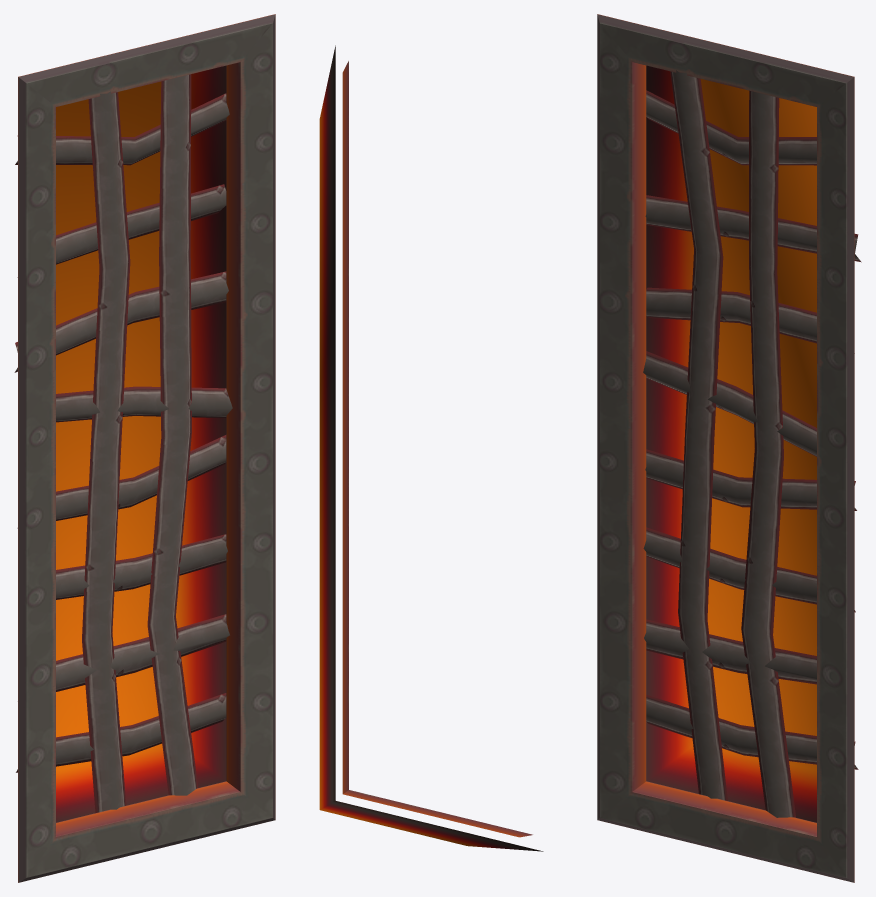
The model's file is tile_2x6.glb.
3 views of the same model, side by side, from view 1: azimuth 30°, elevation 25°; view 2: azimuth 150°, elevation 25°; view 3: azimuth 330°, elevation 25° (orthographic).
Parts seen in each view (by area): view 1: flame_grates.tile_2x6-MeshNodes["flame_pit_2x6"], flame_grates.tile_2x6-MeshNodes["flame_pit_2x6_bars"], flame_grates.tile_2x6-MeshNodes["flame_pit_2x6_pit"]; view 2: flame_grates.tile_2x6-MeshNodes["flame_pit_2x6_pit"], flame_grates.tile_2x6-MeshNodes["flame_pit_2x6"]; view 3: flame_grates.tile_2x6-MeshNodes["flame_pit_2x6"], flame_grates.tile_2x6-MeshNodes["flame_pit_2x6_bars"], flame_grates.tile_2x6-MeshNodes["flame_pit_2x6_pit"].
Boxes of the visible parts, bbox=[...] form: flame_grates.tile_2x6-MeshNodes["flame_pit_2x6"]: bbox=[18, 14, 275, 882]; flame_grates.tile_2x6-MeshNodes["flame_pit_2x6_bars"]: bbox=[14, 74, 232, 813]; flame_grates.tile_2x6-MeshNodes["flame_pit_2x6_pit"]: bbox=[56, 65, 226, 822]; flame_grates.tile_2x6-MeshNodes["flame_pit_2x6_pit"]: bbox=[319, 45, 543, 851]; flame_grates.tile_2x6-MeshNodes["flame_pit_2x6"]: bbox=[342, 61, 532, 837]; flame_grates.tile_2x6-MeshNodes["flame_pit_2x6"]: bbox=[597, 14, 854, 882]; flame_grates.tile_2x6-MeshNodes["flame_pit_2x6_bars"]: bbox=[643, 70, 861, 817]; flame_grates.tile_2x6-MeshNodes["flame_pit_2x6_pit"]: bbox=[646, 65, 816, 822].
Size of the model in its own units: 2.01 by 6.01 by 0.6726.
3 materials, 3 textured.
